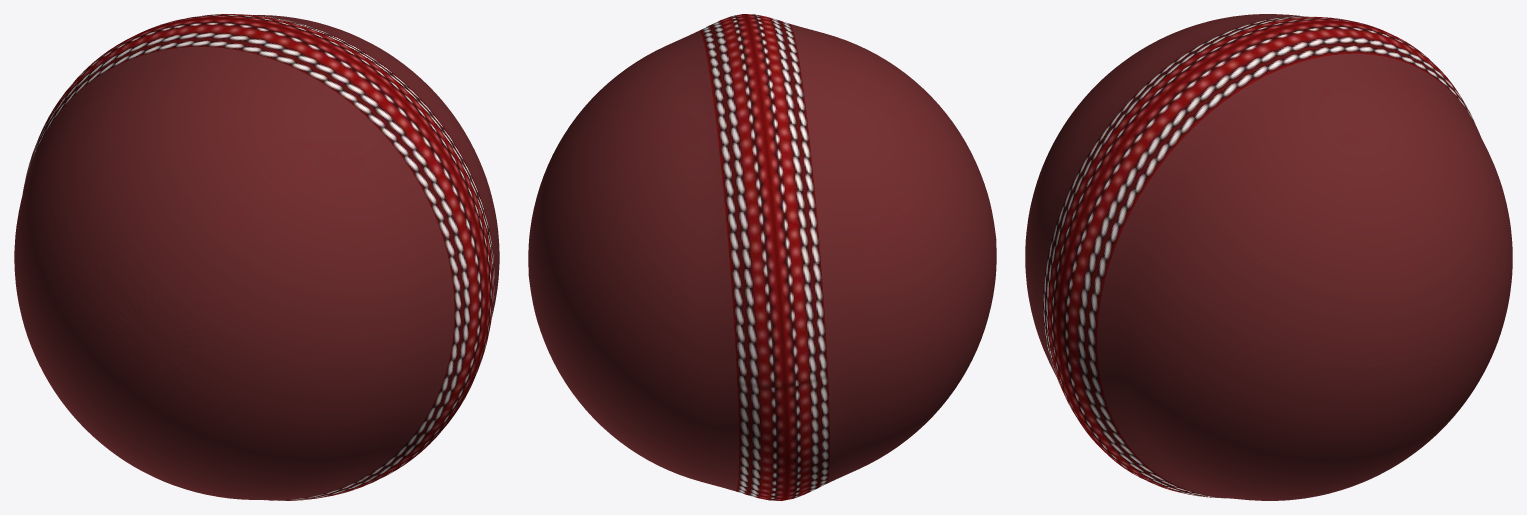
File: cricket_ball.glb
3 views of the same model, side by side, from view 1: azimuth 30°, elevation 25°; view 2: azimuth 150°, elevation 25°; view 3: azimuth 270°, elevation 25° (orthographic). The views are drawn at different scales.
Visible parts, largest first — view 1: Sphere; view 2: Sphere; view 3: Sphere.
Part boxes in pixels (x1,y1,x2,y2): Sphere: (14,14,499,500); Sphere: (528,14,996,500); Sphere: (1025,14,1512,500).
Bounding box in the file's own units: 1.98 × 2.07 × 1.98.
Materials: 2 (2 with a texture image).
